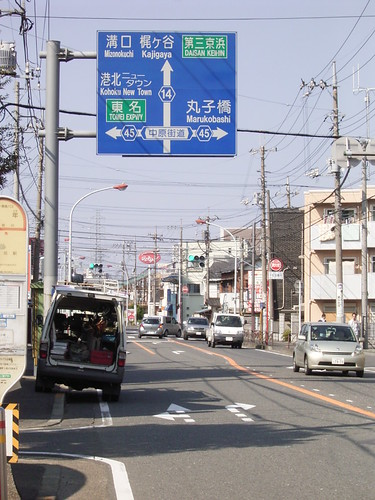car: (35, 281, 122, 408), (292, 319, 366, 375), (132, 306, 183, 338), (204, 309, 242, 349), (181, 309, 212, 342)
power pole: (311, 67, 352, 321), (251, 147, 278, 355), (192, 212, 227, 316)
sign: (93, 31, 236, 150)
sky: (68, 1, 375, 200)
street: (27, 336, 375, 496)
